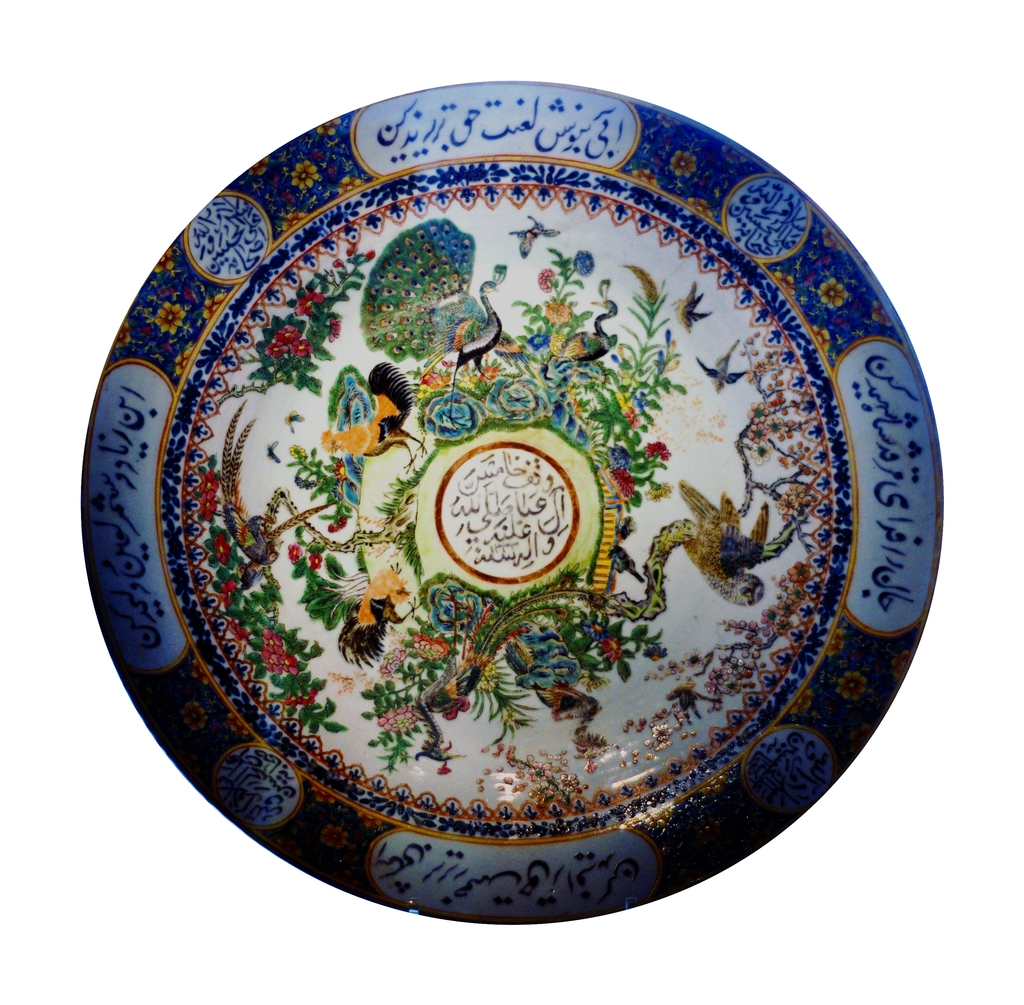plate: (73, 67, 950, 923)
